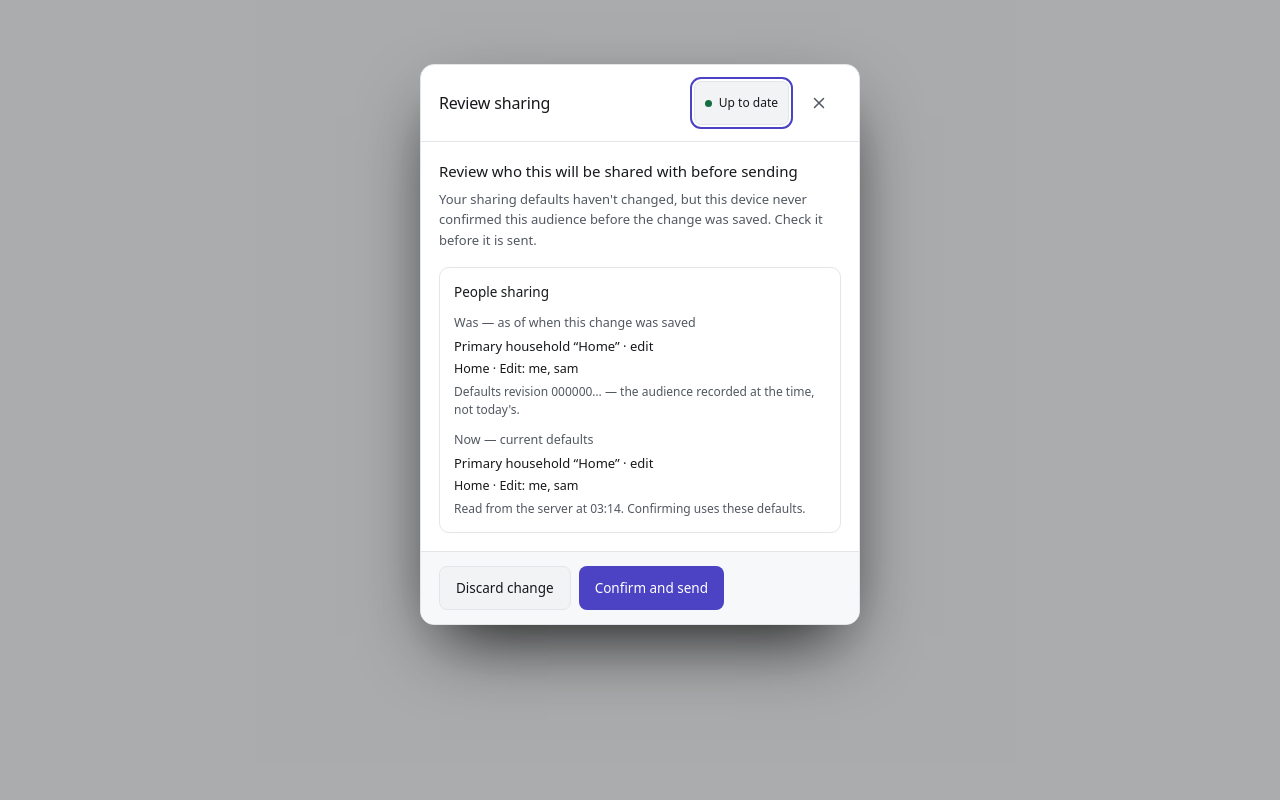
Test case: R2: the confirmation names the draft exactly as the review showed it › a draft changed while it was reviewed is refused, and the person is told to check it again (nothing closes)
This screenshot has width=1280, height=800.
Click the button "Confirm and send" at [651, 588], box [579,566,724,610]
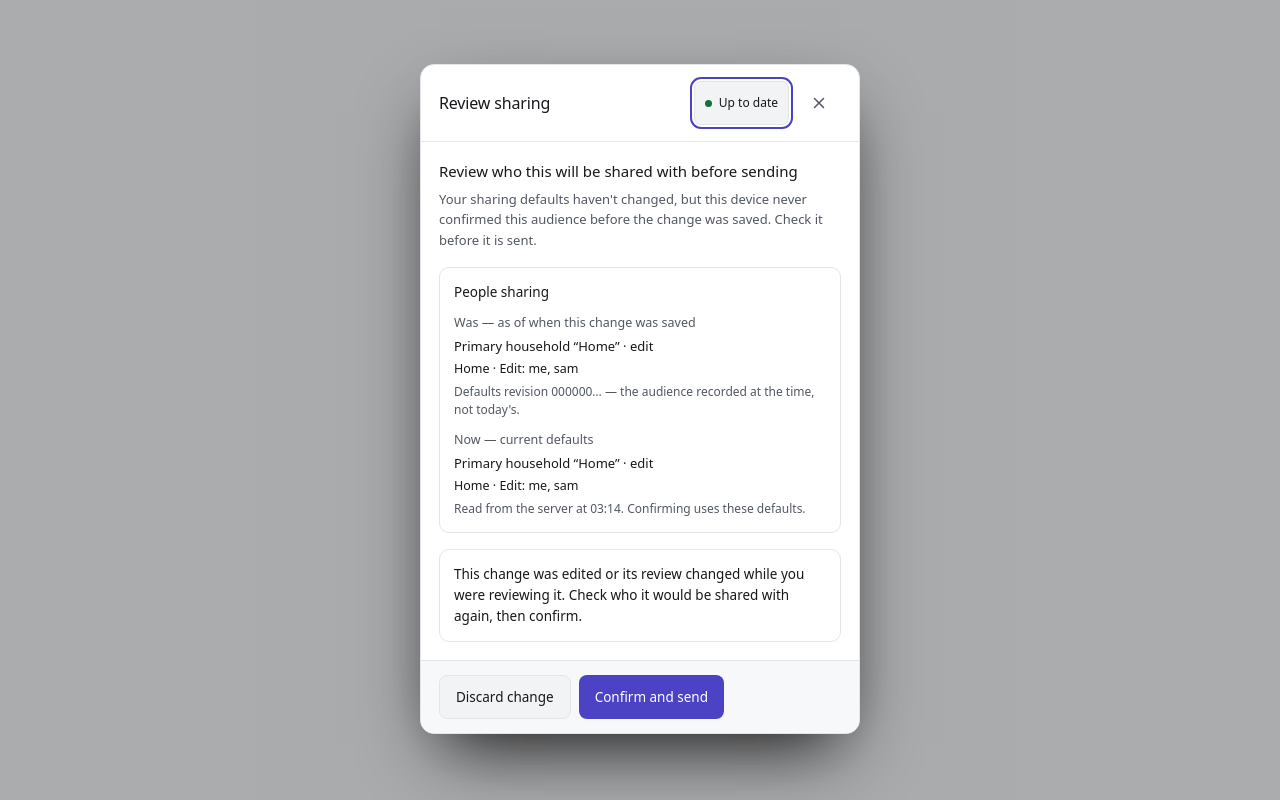
Now the text "This change was edited or its review changed while you were reviewing it. Check who it would be shared with again, then " is shown, box [454,565,804,625]
